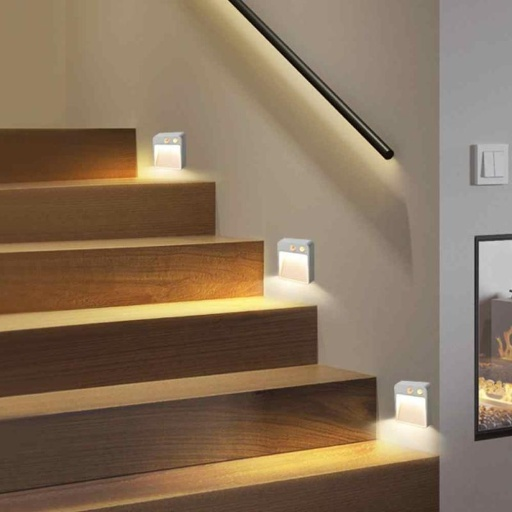Stairs: (0, 129, 438, 512)
